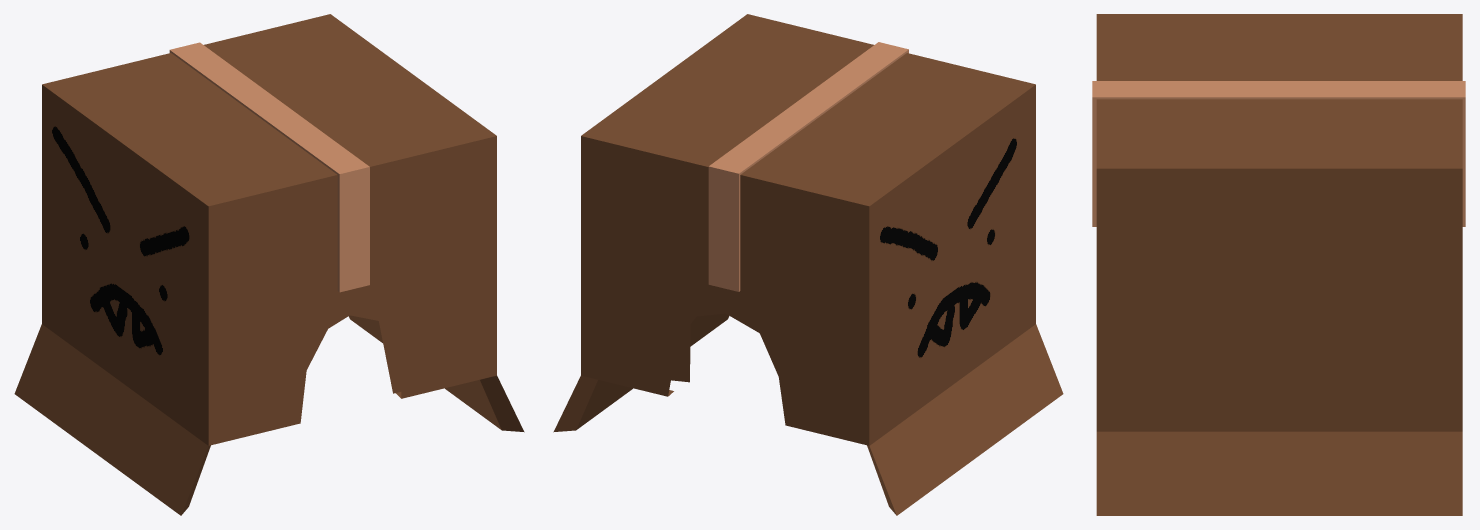
Rendered from boxy.fbx.
3 views of the same model, side by side, from view 1: azimuth 30°, elevation 25°; view 2: azimuth 150°, elevation 25°; view 3: azimuth 270°, elevation 25° (orthographic). The views are drawn at different scales.
Parts seen in each view (by area): view 1: Cube, Cube.001; view 2: Cube, Cube.001; view 3: Cube, Cube.001.
Part boxes in pixels (<box>): Cube: <box>14,14,524,515</box>; Cube.001: <box>169,42,369,292</box>; Cube: <box>553,14,1063,515</box>; Cube.001: <box>708,42,908,291</box>; Cube: <box>1096,14,1462,515</box>; Cube.001: <box>1092,81,1465,226</box>.
Bounding box in the file's own units: 91.98 × 78.05 × 78.87.
